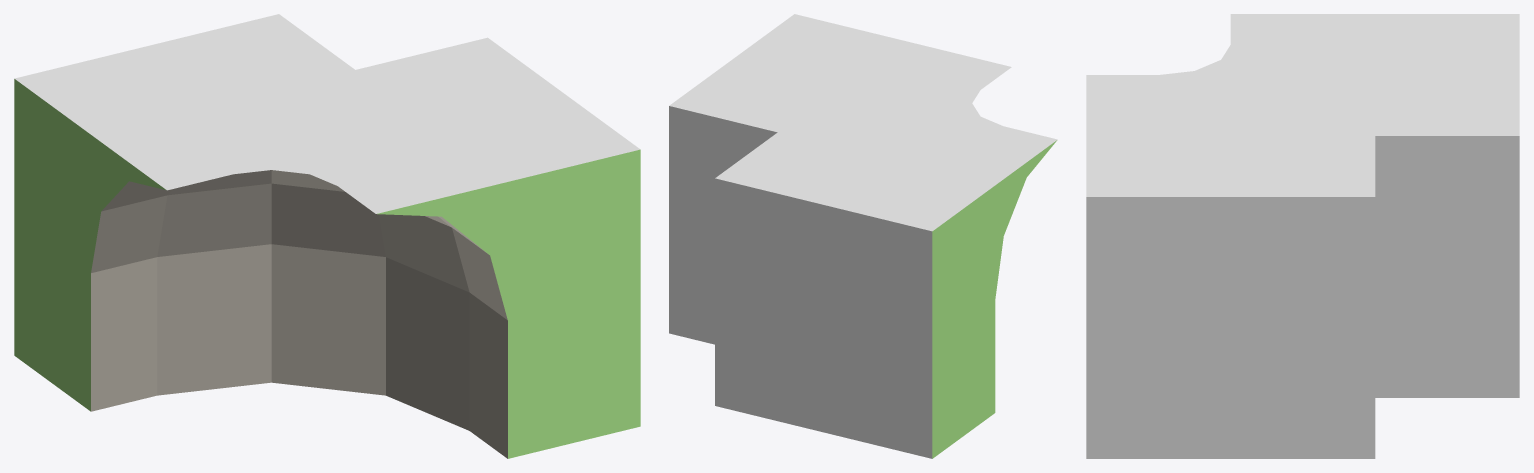
The model's file is Wall_Curve_Inner_3x3_Top.glb.
3 views of the same model, side by side, from view 1: azimuth 30°, elevation 25°; view 2: azimuth 150°, elevation 25°; view 3: azimuth 270°, elevation 25° (orthographic). The views are drawn at different scales.
Parts seen in each view (by area): view 1: Wall_Curve_Inner_3x3_Top; view 2: Wall_Curve_Inner_3x3_Top; view 3: Wall_Curve_Inner_3x3_Top.
Boxes of the visible parts, x1,y1,x2,y2 form: Wall_Curve_Inner_3x3_Top: [14, 14, 640, 458]; Wall_Curve_Inner_3x3_Top: [669, 14, 1057, 458]; Wall_Curve_Inner_3x3_Top: [1086, 14, 1519, 458].
Size of the model in its own units: 300 by 200 by 300.
